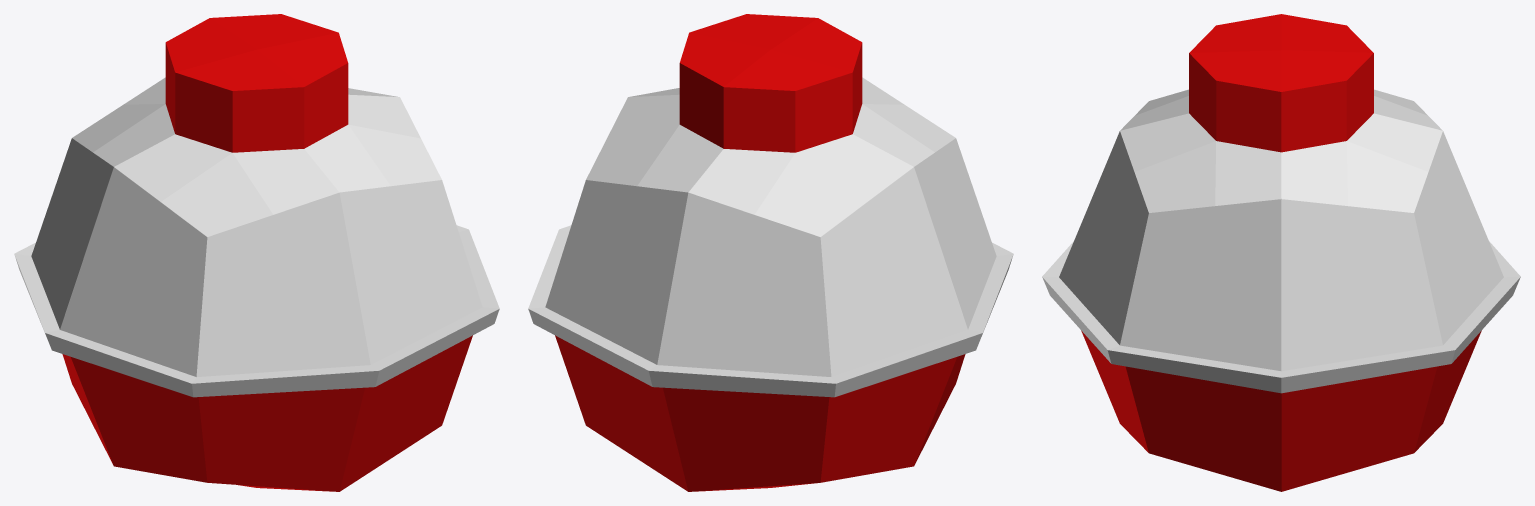
File: bobber.glb
3 renders of one model, left to right at view 1: azimuth 30°, elevation 25°; view 2: azimuth 150°, elevation 25°; view 3: azimuth 270°, elevation 25°, orthographic. The views are drawn at different scales.
Parts seen in each view (by area): view 1: Cube; view 2: Cube; view 3: Cube.
Part boxes in pixels (<box>): Cube: <box>14,14,499,491</box>; Cube: <box>528,14,1013,491</box>; Cube: <box>1042,14,1520,491</box>.
Bounding box in the file's own units: 0.0452 × 0.0446 × 0.0452.
